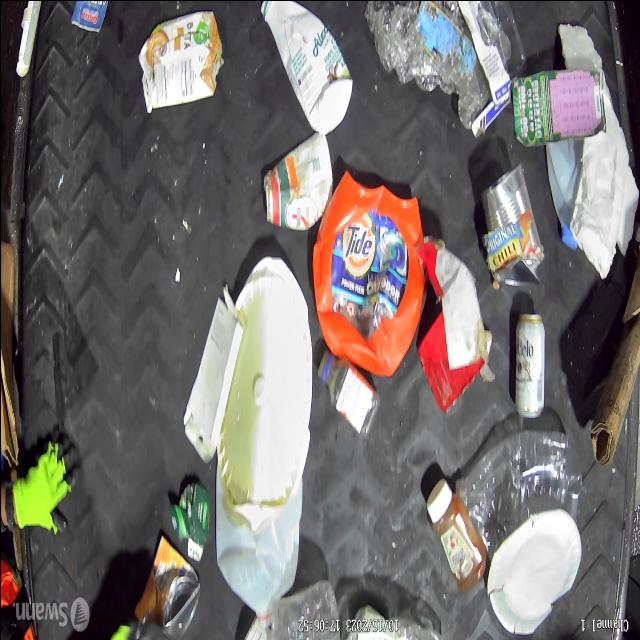can: (483, 174, 548, 292), (264, 152, 329, 238), (144, 539, 198, 640), (510, 313, 548, 419)
milk_jug: (215, 461, 303, 628)
non_white_jug: (319, 180, 423, 382)
plastic_bottle: (458, 432, 584, 544)
